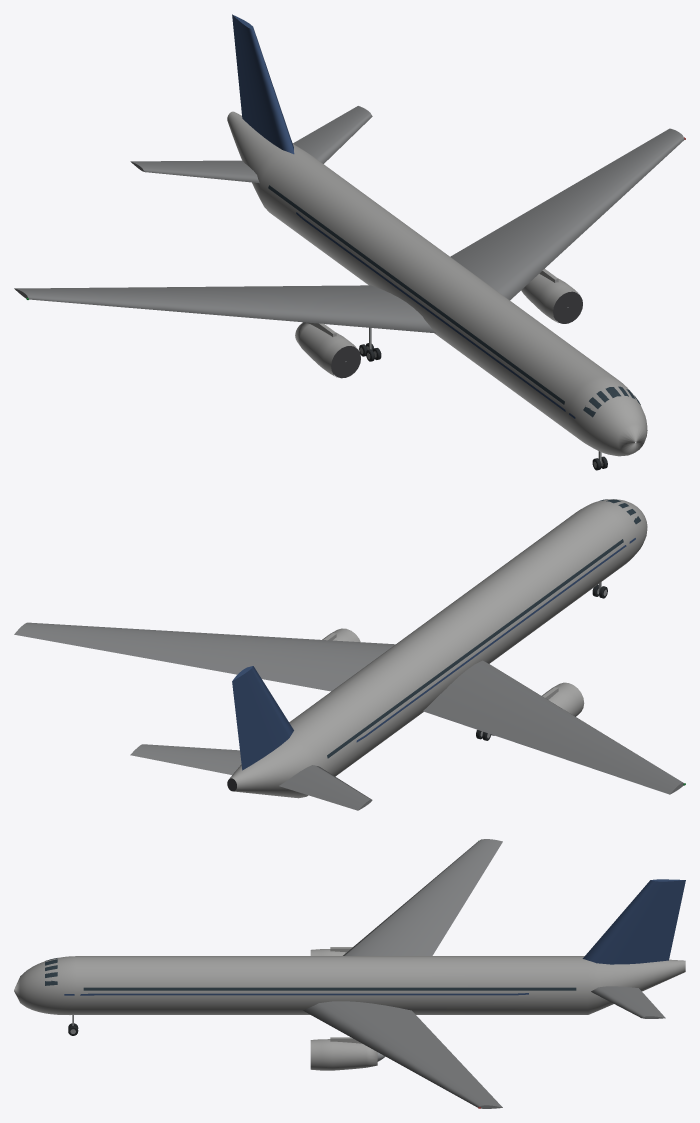
File: widebody.glb
The picture shows the model from 3 angles, top to bottom: view 1: azimuth 30°, elevation 25°; view 2: azimuth 150°, elevation 25°; view 3: azimuth 270°, elevation 25°; orthographic projection. The views are drawn at different scales.
Parts seen in each view (by area): view 1: paint-body, belly-body, trim-body, glass-body, fan-body; view 2: paint-body, belly-body, trim-body, glass-body; view 3: paint-body, belly-body, trim-body, glass-body.
Boxes of the visible parts, x1,y1,x2,y2 form: paint-body: (227, 111, 647, 456); belly-body: (14, 106, 684, 333); trim-body: (232, 14, 575, 418); glass-body: (268, 185, 640, 417); fan-body: (331, 291, 582, 378); paint-body: (229, 499, 647, 798); belly-body: (14, 622, 684, 810); trim-body: (232, 538, 635, 770); glass-body: (327, 499, 640, 758); paint-body: (14, 947, 685, 1070); belly-body: (303, 839, 665, 1108); trim-body: (64, 879, 685, 995); glass-body: (45, 958, 576, 990).
Size of the model in its own units: 60.26 by 16.19 by 64.02.
